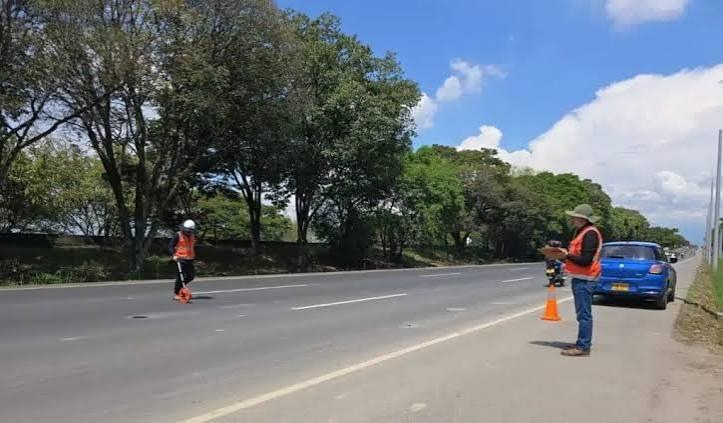car: (585, 242, 672, 307), (588, 242, 672, 308)
